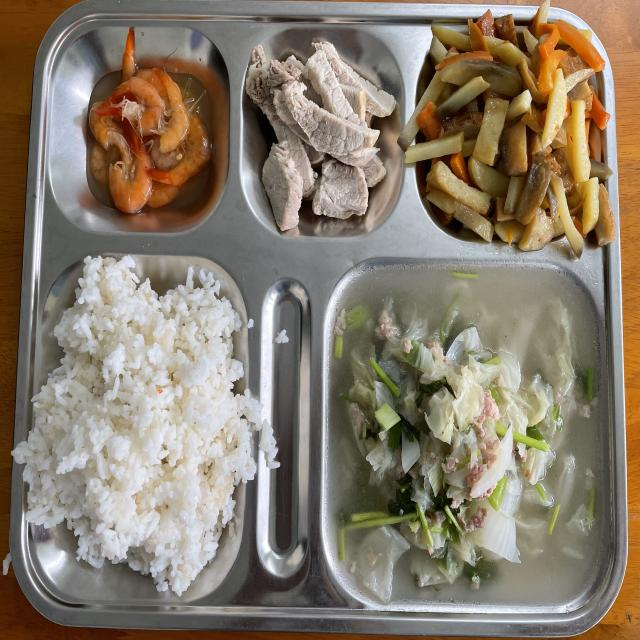com_trang: (60, 290, 223, 565)
